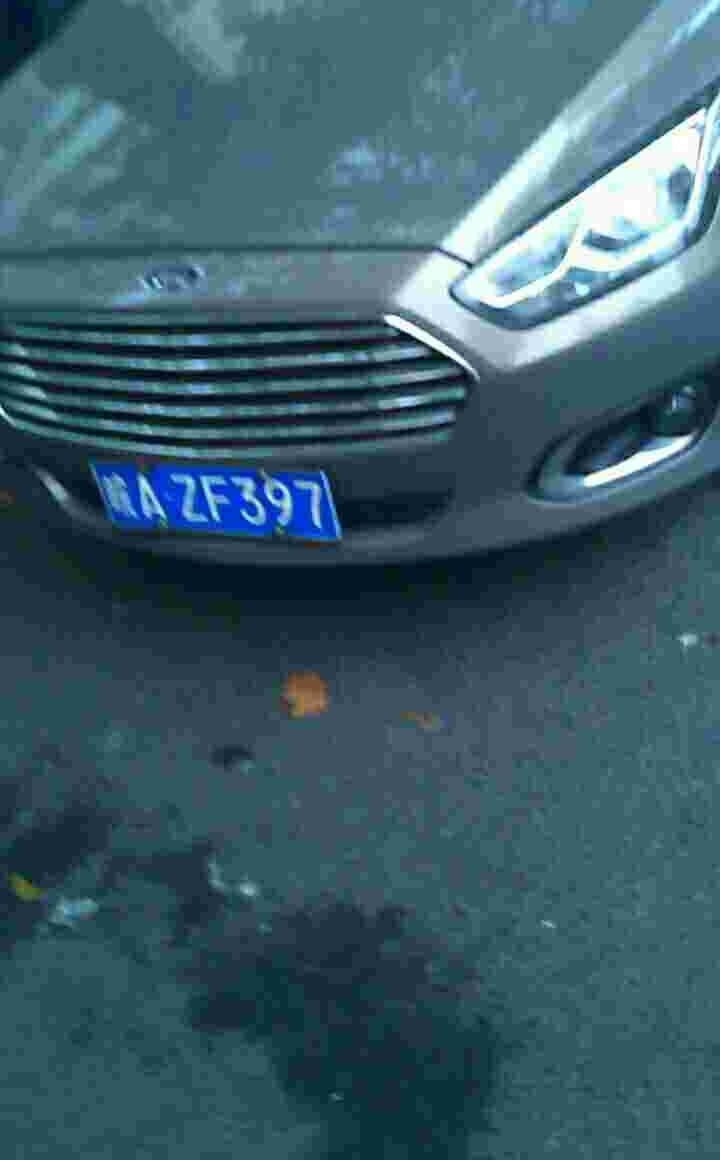license_plate: (103, 464, 339, 545)
